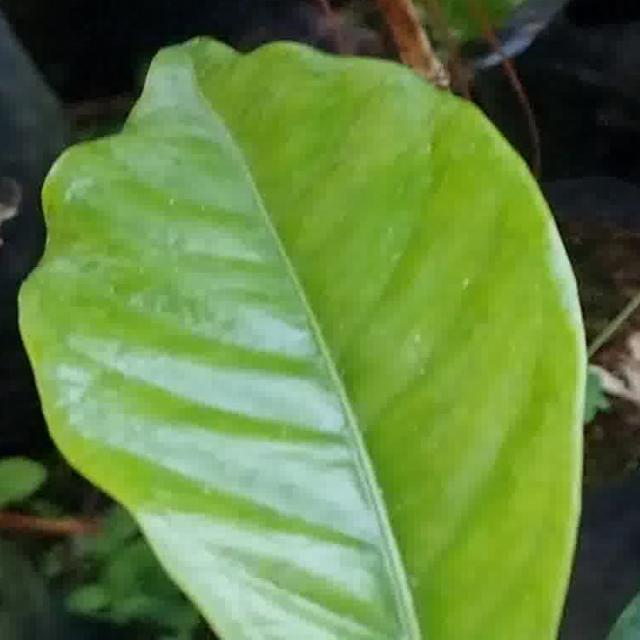leaves: (11, 33, 594, 640)
